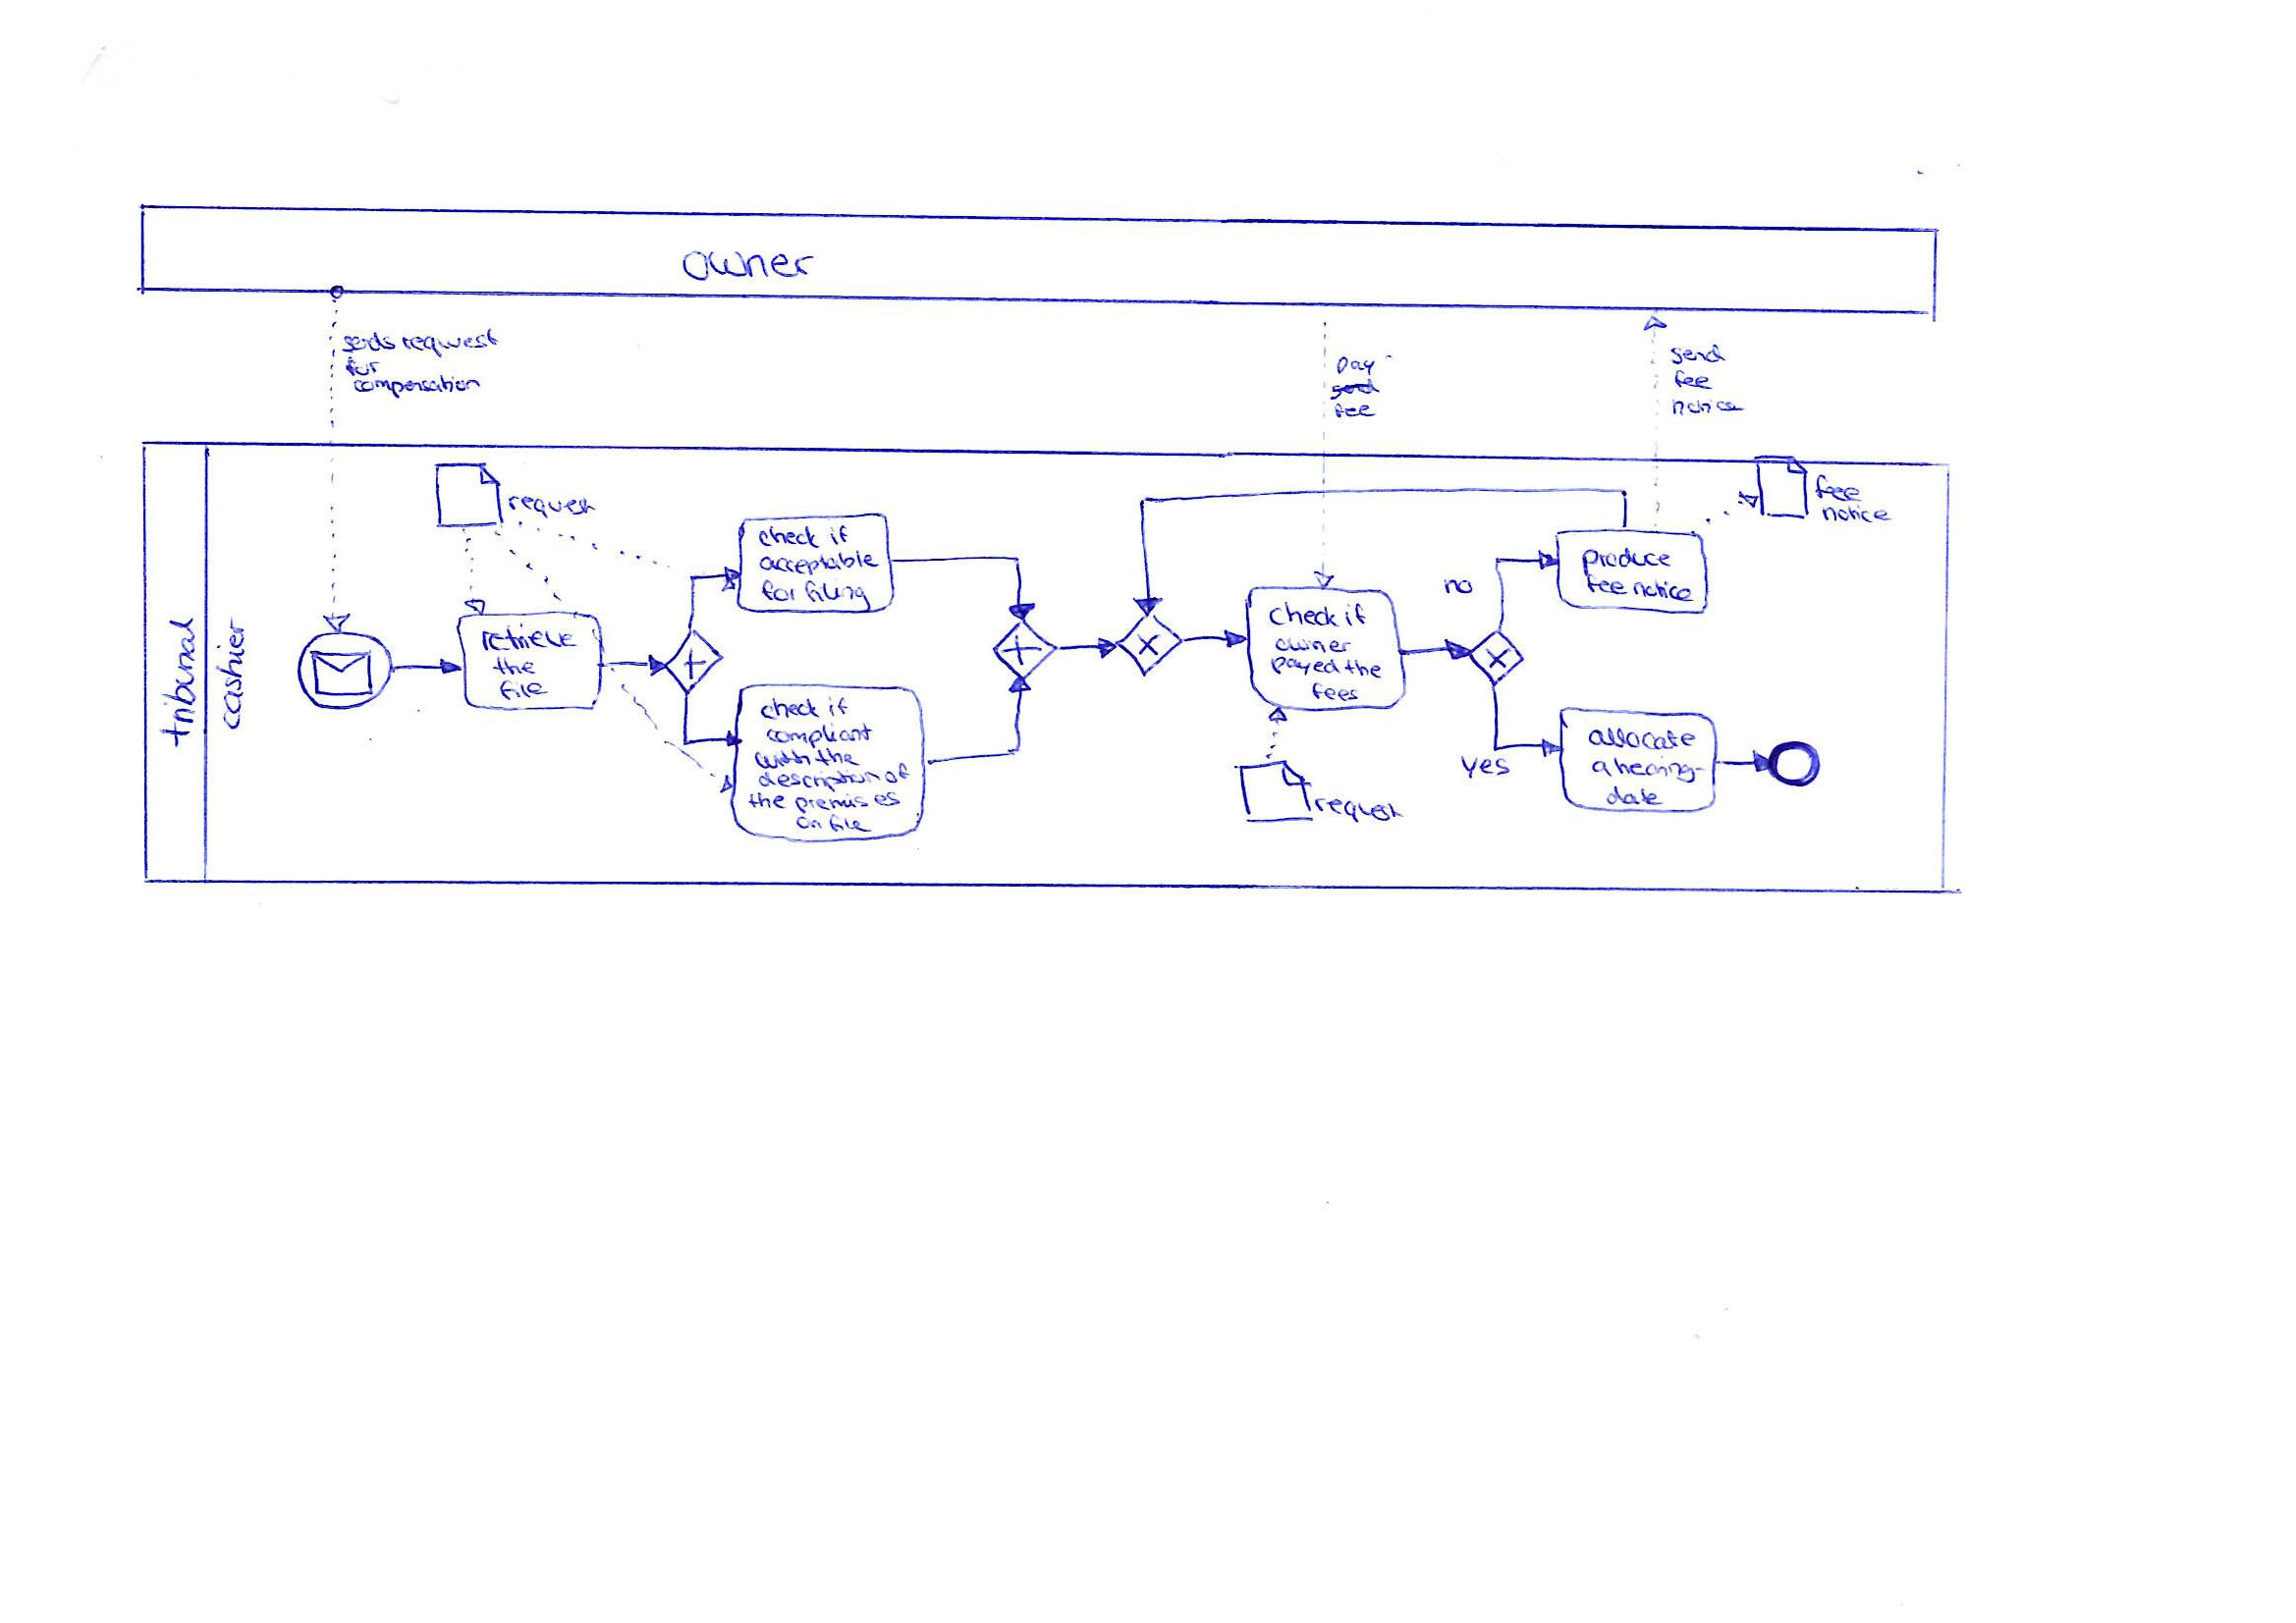Day: (1333, 355, 1379, 379)
Produce: (1576, 543, 1676, 581)
a: (1586, 755, 1616, 783)
acceptable: (755, 546, 882, 578)
allocate: (1583, 722, 1699, 755)
cashier: (211, 613, 251, 736)
check: (1261, 595, 1342, 632), (754, 522, 822, 553), (755, 694, 822, 725)
compensation: (348, 371, 487, 402)
compliant: (762, 718, 878, 754)
date: (1600, 783, 1667, 810)
description: (754, 768, 889, 797)
fee: (1809, 471, 1866, 506), (1579, 569, 1632, 601), (1330, 399, 1381, 423), (1671, 367, 1718, 393)
fees: (1307, 678, 1363, 706)
file: (494, 676, 553, 704), (824, 811, 878, 836)
filing: (801, 576, 875, 618)
for: (757, 576, 803, 606), (343, 355, 385, 379)
hearing: (1609, 752, 1711, 787)
if: (1340, 601, 1372, 631), (824, 694, 854, 720), (826, 522, 852, 548)
no: (1439, 574, 1477, 601)
notice: (1627, 573, 1697, 608), (1816, 499, 1897, 527), (1669, 393, 1751, 420)
of: (878, 759, 913, 789)
on: (792, 813, 827, 834)
owner: (676, 246, 820, 286), (1270, 634, 1358, 655)
payed: (1267, 653, 1344, 682)
premises: (792, 787, 905, 819)
request: (397, 325, 502, 362), (1309, 792, 1409, 829), (504, 488, 601, 523)
retrieve: (474, 618, 581, 659)
send: (1664, 339, 1732, 369)
sends: (339, 328, 399, 357)
the: (812, 743, 866, 771), (743, 787, 792, 813), (488, 653, 541, 678), (1340, 657, 1386, 685)
tribunal: (155, 613, 202, 752)
with: (748, 745, 817, 773)
yes: (1455, 752, 1514, 783)
